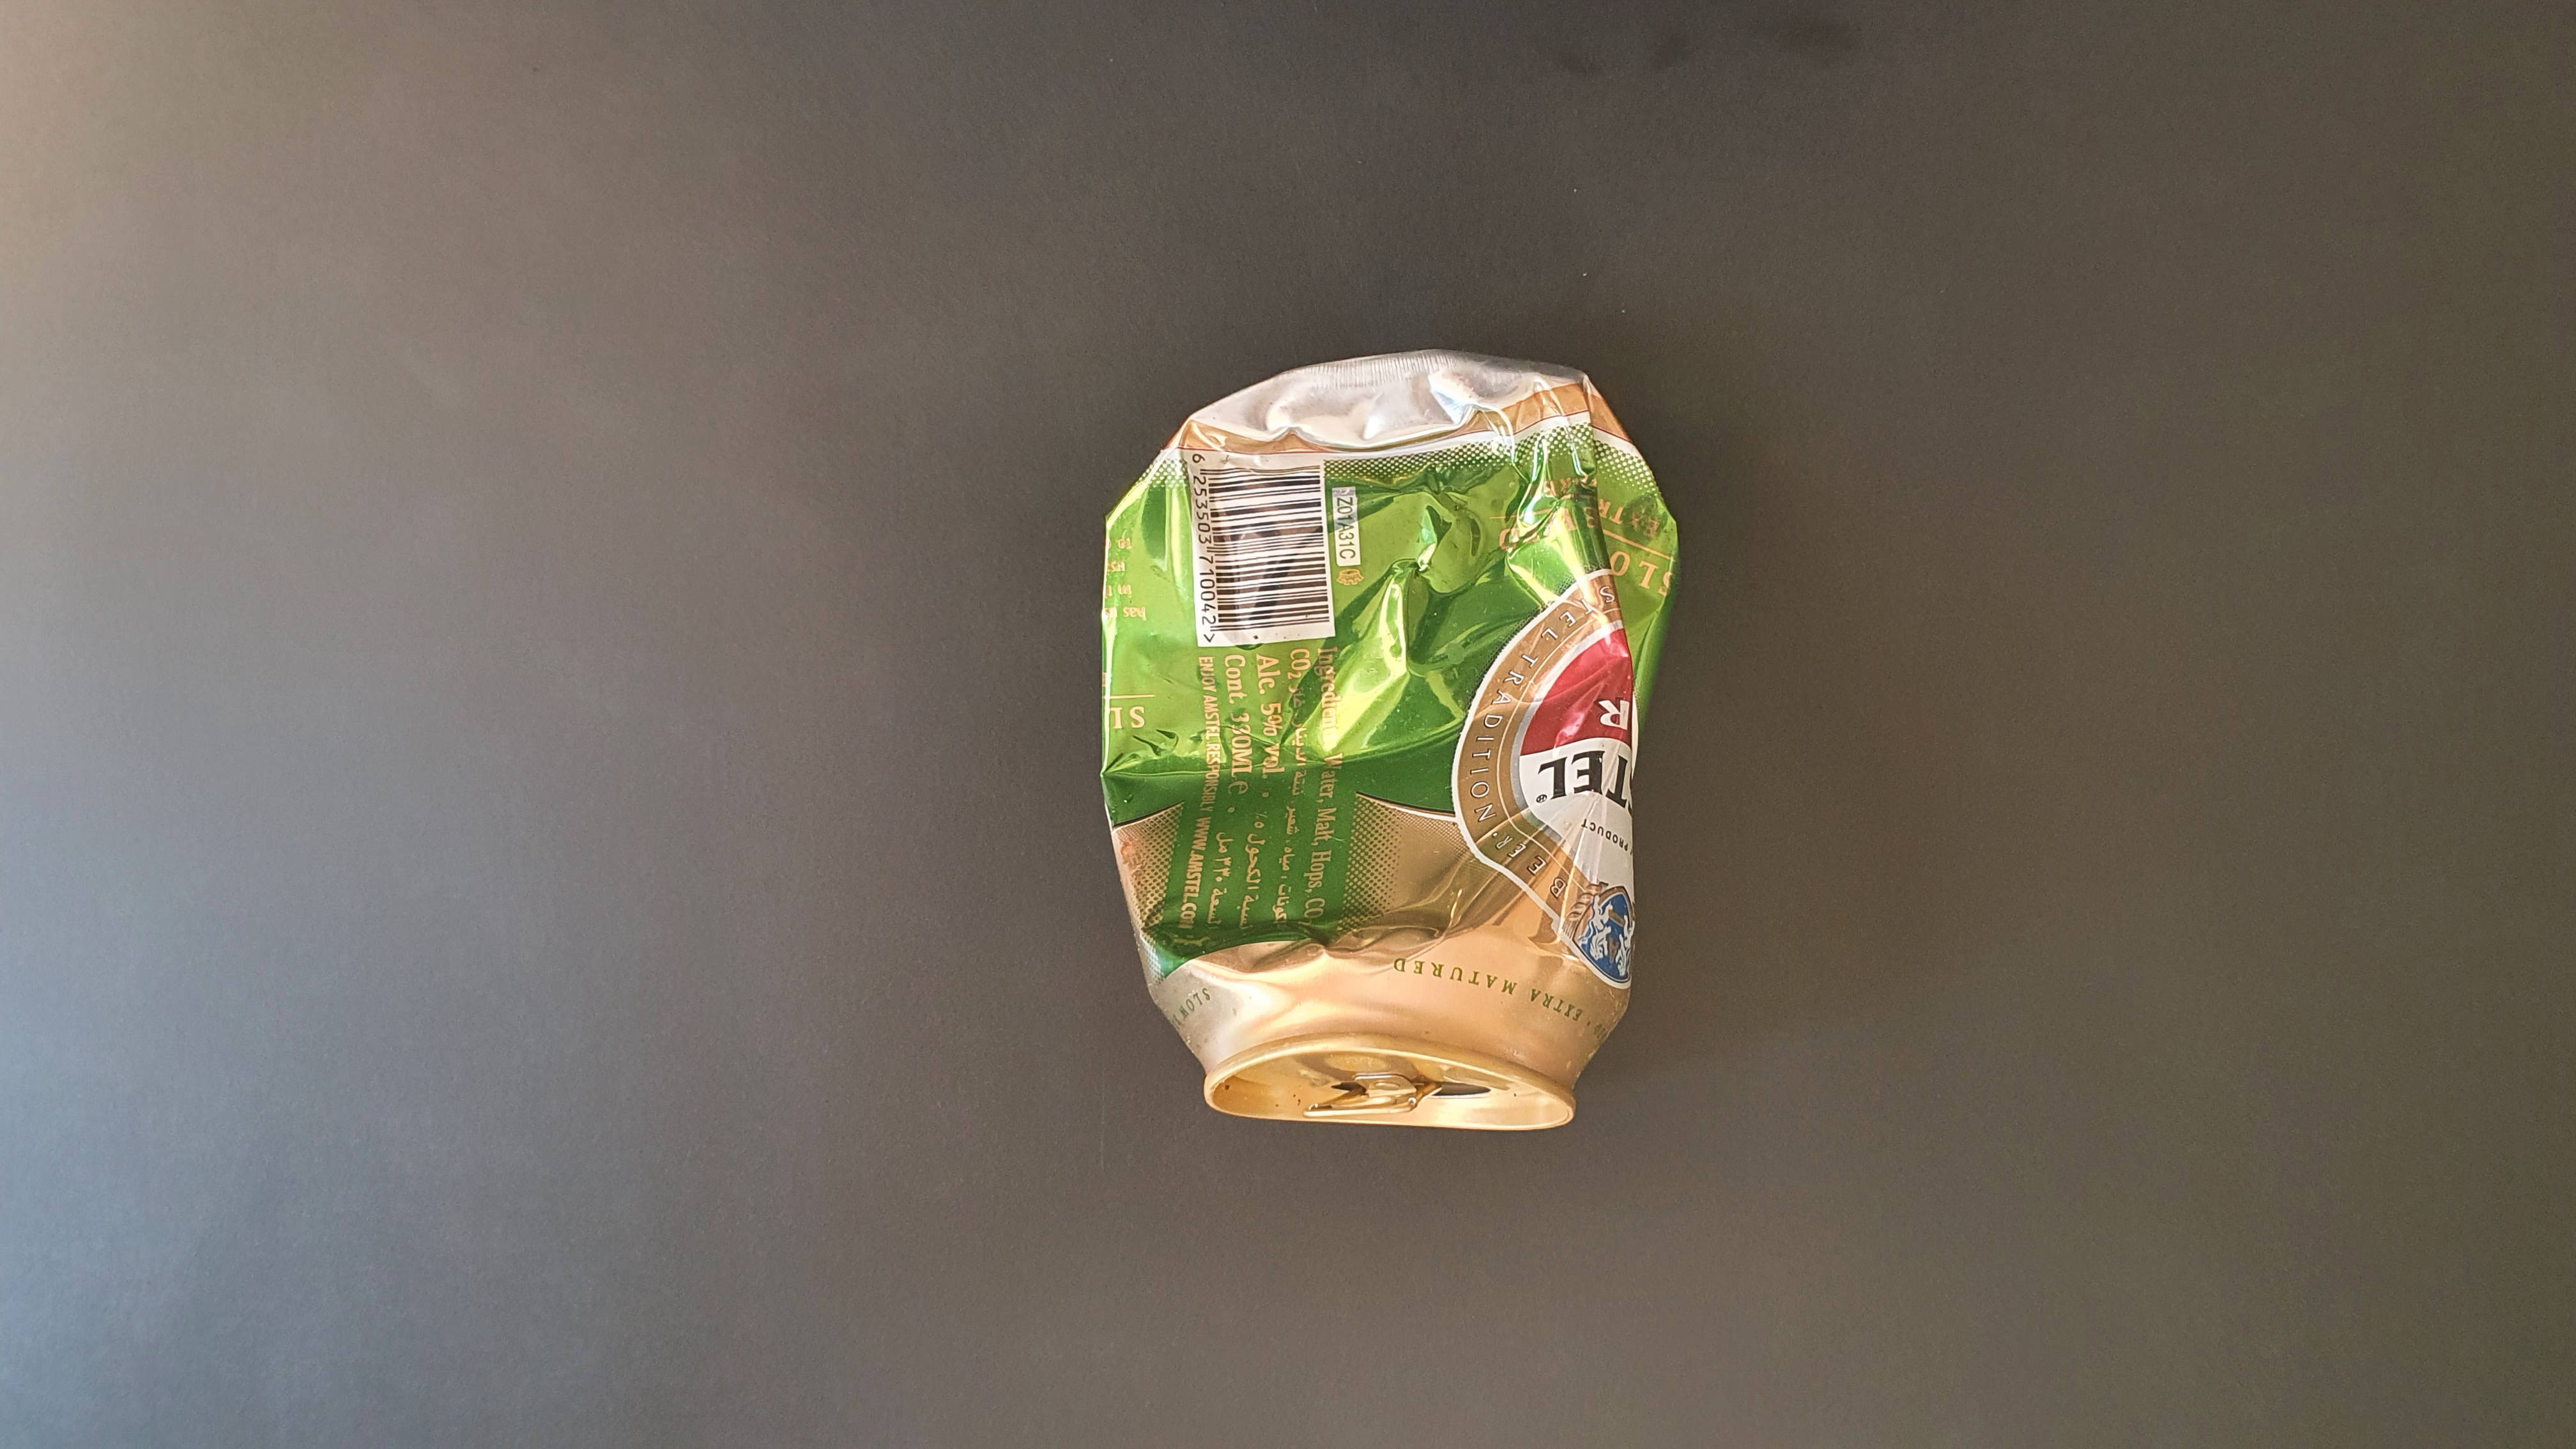metal: (1035, 285, 1737, 1164)
